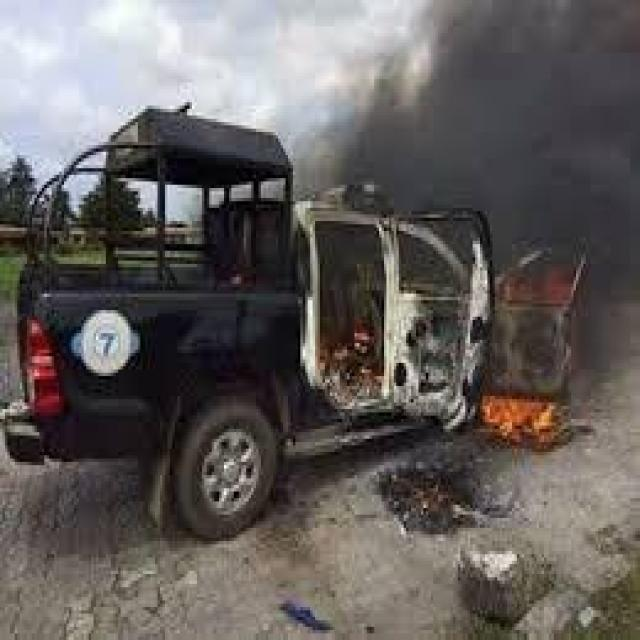fire: (482, 364, 577, 443)
smoke: (355, 0, 635, 254)
